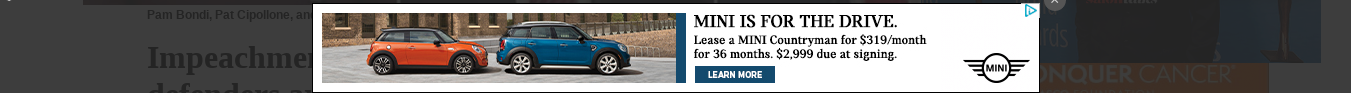fake_button: (685, 63, 785, 93)
